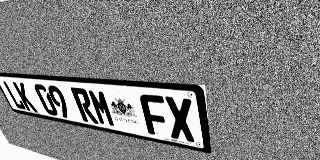0: (32, 84, 59, 116)
9: (45, 85, 73, 119)
F: (139, 94, 171, 138)
K: (12, 82, 38, 112)
L: (2, 81, 27, 110)
M: (87, 89, 117, 127)
R: (70, 87, 99, 124)
X: (164, 96, 196, 143)
